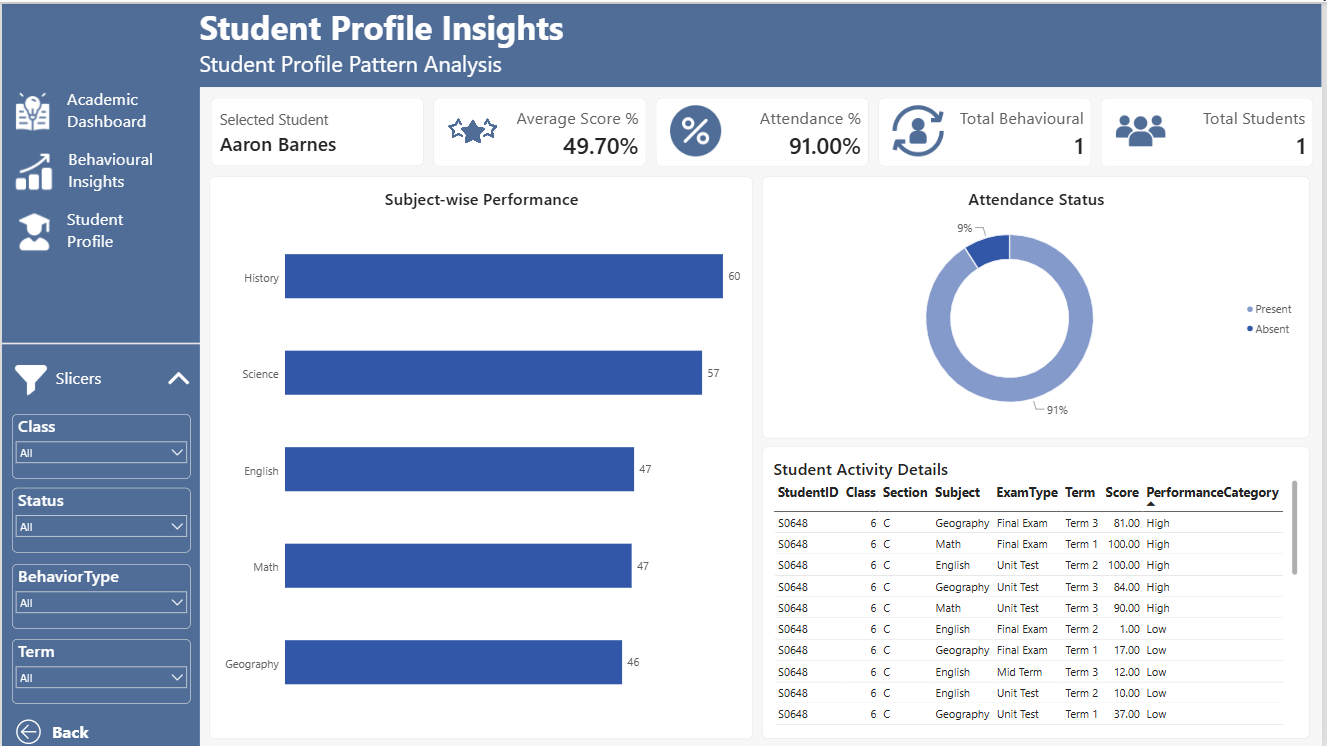

The dashboard page shown, as its layout file describes it:
{"tool":"powerbi","page":{"name":"Student Profile","canvas":[1920,1080],"ordinal":2},"visuals":[{"type":"shape","box":[0,0,287.8,1079.9],"z":0,"group":"g4"},{"type":"shape","box":[0,0,1919.6,121.2],"z":0,"group":"g1"},{"type":"group","id":"g1","title":"Header","box":[0,0,1919.6,122],"z":0},{"type":"textbox","box":[93.7,122.4,179.3,69.5],"z":0,"group":"g10"},{"type":"cardVisual","fields":{"Data":["_Measure.Behavior Count"]},"box":[1273.6,135.7,310,100],"z":0,"group":"g9"},{"type":"cardVisual","fields":{"Data":["_Measure.Total Students"]},"box":[1597.2,135.7,309.7,100],"z":0,"group":"g11"},{"type":"group","id":"g2","title":"Total Student Card","box":[303,136.3,310,100],"z":0,"group":"g7"},{"type":"cardVisual","fields":{"Data":["_Measure.Selected Student"]},"box":[303,136.3,310,100],"z":0,"group":"g2"},{"type":"cardVisual","fields":{"Data":["_Measure.Average Score %"]},"box":[626.5,136.3,310,100],"z":0,"group":"g5"},{"type":"cardVisual","fields":{"Data":["_Measure.Attendance %"]},"box":[950.1,136.3,310,100],"z":0,"group":"g8"},{"type":"textbox","box":[94.4,210.4,179.3,69.5],"z":0,"group":"g14"},{"type":"clusteredBarChart","title":"Subject-wise Performance","fields":{"Category":["Scores.Subject"],"Y":["_Measure.Average Score"]},"box":[302,250,790,818],"z":0,"group":"g12"},{"type":"textbox","box":[93.4,296.9,179.3,69.5],"z":0,"group":"g16"},{"type":"shape","title":"Devider","box":[0,482,288,24],"z":0,"group":"g6"},{"type":"image","box":[14,518,55,55],"z":0,"group":"g13"},{"type":"textbox","box":[72,1042,58,34],"z":0,"group":"g3"},{"type":"shape","title":"Devider","box":[0,482,288,24],"z":250,"group":"g4"},{"type":"group","id":"g3","title":"Back Button","box":[14,1034,258,46],"z":500,"group":"g4"},{"type":"group","id":"g4","title":"Side Pannel","box":[0,0,288,1080],"z":1000},{"type":"textbox","box":[288,0,632,122],"z":1000,"group":"g1"},{"type":"actionButton","box":[14.3,122,259,69.5],"z":1000,"group":"g10"},{"type":"group","id":"g5","title":"Total Student Card","box":[626.5,136.3,310,100],"z":1000,"group":"g7"},{"type":"image","box":[1293.5,146.3,75.5,74.5],"z":1000,"group":"g9"},{"type":"image","box":[1617.1,146.3,75.4,74.5],"z":1000,"group":"g11"},{"type":"image","box":[646.4,146.9,75.5,74.5],"z":1000,"group":"g5"},{"type":"image","box":[970,146.9,75.5,74.5],"z":1000,"group":"g8"},{"type":"actionButton","box":[15,210,259,69.5],"z":1000,"group":"g14"},{"type":"donutChart","title":"Attendance Status","fields":{"Category":["Attendance.Status"],"Y":["_Measure.Attendance Records"]},"box":[1105.6,250,796.7,381.1],"z":1000,"group":"g12"},{"type":"actionButton","box":[14,296.5,259,69.5],"z":1000,"group":"g16"},{"type":"textbox","box":[78,527,75,37],"z":1000,"group":"g13"},{"type":"slicer","fields":{"Values":["Students.Class"]},"box":[14,596,260,94],"z":1000,"group":"g6"},{"type":"actionButton","box":[14,1034,258,46],"z":1000,"group":"g3"},{"type":"group","id":"g6","title":"Slicers","box":[0,482,288,536],"z":1250,"group":"g4"},{"type":"group","id":"g7","title":"KPIs","box":[303,135.7,1604.2,100.6],"z":2000},{"type":"group","id":"g8","title":"Total Student Card","box":[950.1,136.3,310,100],"z":2000,"group":"g7"},{"type":"tableEx","title":"Student Activity Details","fields":{"Values":["Students.StudentID","Sum(Students.Class)","Students.Section","Scores.Subject","Scores.ExamType","Scores.Term","Sum(Scores.Score)","Scores.PerformanceCategory"]},"box":[1105.6,643.3,796.7,424.4],"z":2000,"group":"g12"},{"type":"slicer","fields":{"Values":["Attendance.Status"]},"box":[14,704,260,94],"z":2000,"group":"g6"},{"type":"group","id":"g9","title":"Total Student Card","box":[1273.6,135.7,310,100],"z":3000,"group":"g7"},{"type":"image","title":"Up Arrow","box":[241.7,529.2,30,30],"z":3000,"group":"g4"},{"type":"slicer","fields":{"Values":["Behavior.BehaviorType"]},"box":[14,814,260,94],"z":3000,"group":"g6"},{"type":"group","id":"g10","title":"Page 1 Nav","box":[14.3,122,259,69.8],"z":4000,"group":"g15"},{"type":"group","id":"g11","title":"Total Student Card","box":[1597.2,135.7,310,100],"z":4000,"group":"g7"},{"type":"group","id":"g12","title":"Visuals","box":[302,250,1600.2,818],"z":4000},{"type":"group","id":"g13","title":"Filter","box":[14,518,139,55],"z":4000,"group":"g4"},{"type":"slicer","fields":{"Values":["Scores.Term"]},"box":[14,924,260,94],"z":4000,"group":"g6"},{"type":"group","id":"g14","title":"Page 2 Nav","box":[15,210,259,69.5],"z":5000,"group":"g15"},{"type":"group","id":"g15","title":"Page Navigators","box":[14,122,260,244],"z":5500,"group":"g4"},{"type":"group","id":"g16","title":"Page 3 Nav","box":[14,296.5,259,69.5],"z":6000,"group":"g15"}]}

Visuals, with their boxes on the page's 1920x1080 design canvas (x1, y1, x2, y2). These are canvas units, not pixel positions in the 1327x746 screenshot, which may show the page scaled, cropped or inside an application window:
shape: [left=0, top=0, right=288, bottom=1080]
shape: [left=0, top=0, right=1920, bottom=121]
"Header" group: [left=0, top=0, right=1920, bottom=122]
textbox: [left=94, top=122, right=273, bottom=192]
cardVisual - _Measure.Behavior Count: [left=1274, top=136, right=1584, bottom=236]
cardVisual - _Measure.Total Students: [left=1597, top=136, right=1907, bottom=236]
"Total Student Card" group: [left=303, top=136, right=613, bottom=236]
cardVisual - _Measure.Selected Student: [left=303, top=136, right=613, bottom=236]
cardVisual - _Measure.Average Score %: [left=626, top=136, right=936, bottom=236]
cardVisual - _Measure.Attendance %: [left=950, top=136, right=1260, bottom=236]
textbox: [left=94, top=210, right=274, bottom=280]
"Subject-wise Performance" clusteredBarChart: [left=302, top=250, right=1092, bottom=1068]
textbox: [left=93, top=297, right=273, bottom=366]
"Devider" shape: [left=0, top=482, right=288, bottom=506]
image: [left=14, top=518, right=69, bottom=573]
textbox: [left=72, top=1042, right=130, bottom=1076]
"Devider" shape: [left=0, top=482, right=288, bottom=506]
"Back Button" group: [left=14, top=1034, right=272, bottom=1080]
"Side Pannel" group: [left=0, top=0, right=288, bottom=1080]
textbox: [left=288, top=0, right=920, bottom=122]
actionButton: [left=14, top=122, right=273, bottom=192]
"Total Student Card" group: [left=626, top=136, right=936, bottom=236]
image: [left=1294, top=146, right=1369, bottom=221]
image: [left=1617, top=146, right=1692, bottom=221]
image: [left=646, top=147, right=722, bottom=221]
image: [left=970, top=147, right=1046, bottom=221]
actionButton: [left=15, top=210, right=274, bottom=280]
"Attendance Status" donutChart: [left=1106, top=250, right=1902, bottom=631]
actionButton: [left=14, top=296, right=273, bottom=366]
textbox: [left=78, top=527, right=153, bottom=564]
slicer - Students.Class: [left=14, top=596, right=274, bottom=690]
actionButton: [left=14, top=1034, right=272, bottom=1080]
"Slicers" group: [left=0, top=482, right=288, bottom=1018]
"KPIs" group: [left=303, top=136, right=1907, bottom=236]
"Total Student Card" group: [left=950, top=136, right=1260, bottom=236]
"Student Activity Details" tableEx: [left=1106, top=643, right=1902, bottom=1068]
slicer - Attendance.Status: [left=14, top=704, right=274, bottom=798]
"Total Student Card" group: [left=1274, top=136, right=1584, bottom=236]
"Up Arrow" image: [left=242, top=529, right=272, bottom=559]
slicer - Behavior.BehaviorType: [left=14, top=814, right=274, bottom=908]
"Page 1 Nav" group: [left=14, top=122, right=273, bottom=192]
"Total Student Card" group: [left=1597, top=136, right=1907, bottom=236]
"Visuals" group: [left=302, top=250, right=1902, bottom=1068]
"Filter" group: [left=14, top=518, right=153, bottom=573]
slicer - Scores.Term: [left=14, top=924, right=274, bottom=1018]
"Page 2 Nav" group: [left=15, top=210, right=274, bottom=280]
"Page Navigators" group: [left=14, top=122, right=274, bottom=366]
"Page 3 Nav" group: [left=14, top=296, right=273, bottom=366]
